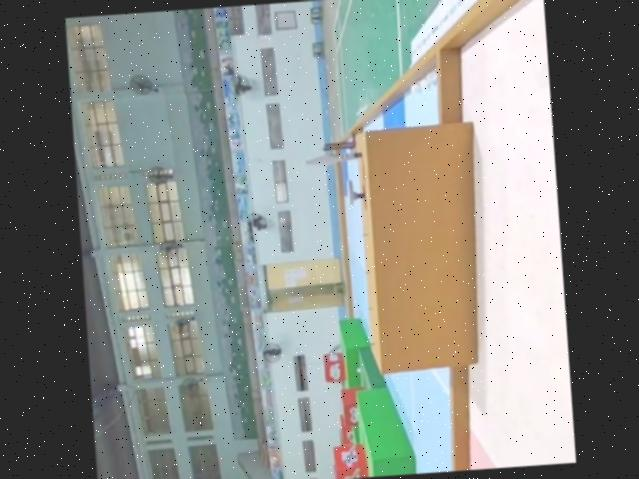Hand: (344, 177, 364, 205)
Sph: (304, 147, 361, 169)
